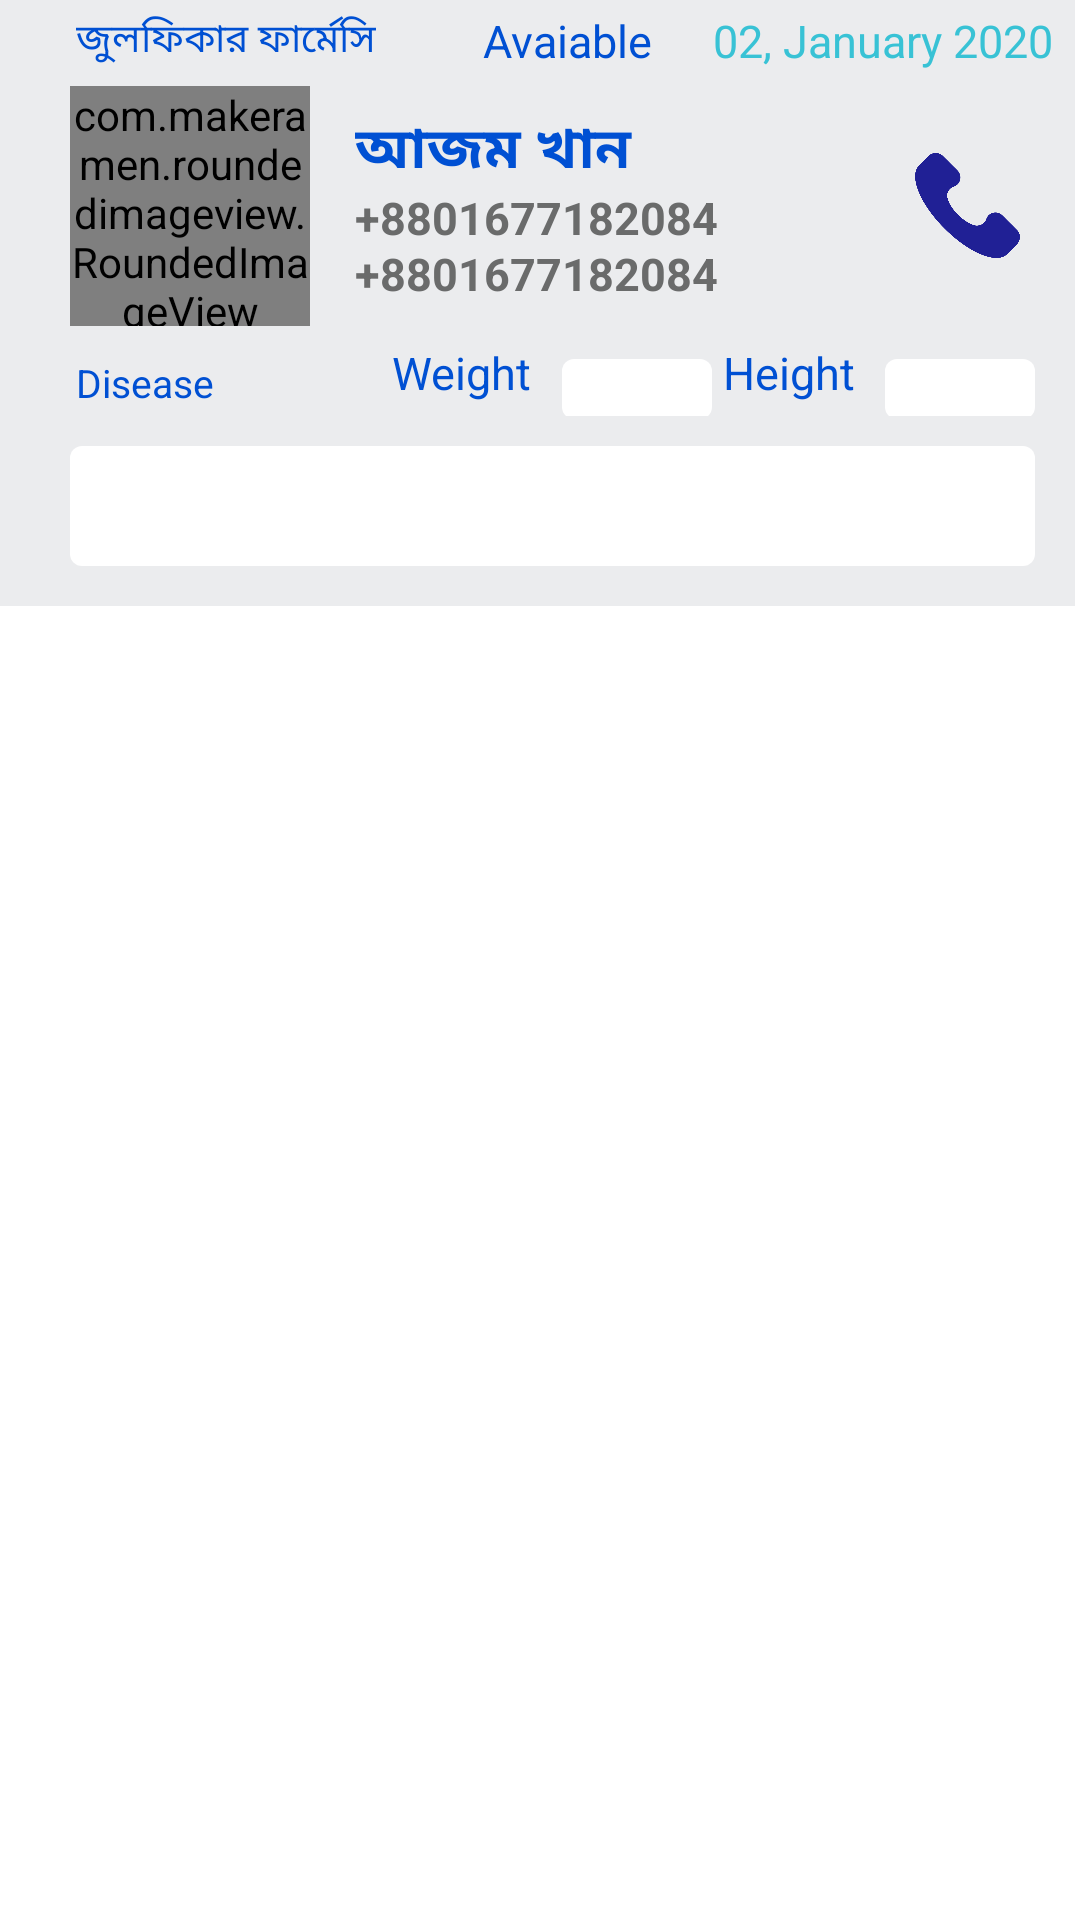

Point at icon controls on the screen. Image size 1080px x 1920px, points as [x,y].
pho: [967,205]
